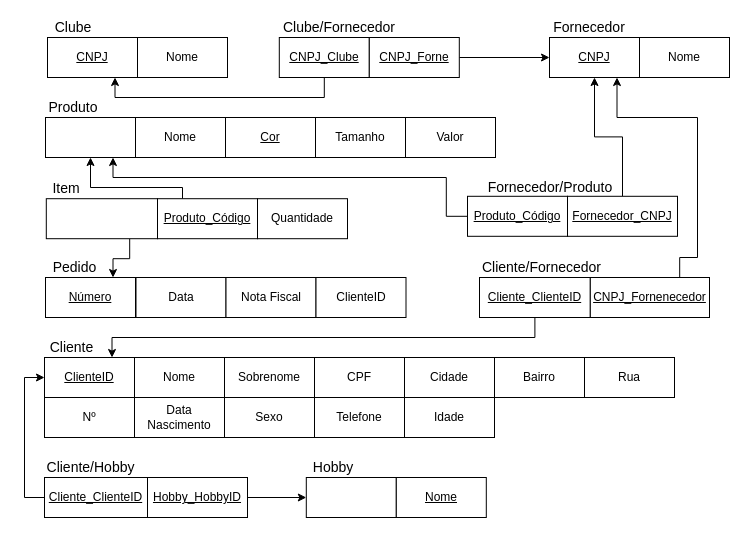
The diagram is 747 pixels wide and 535 high, and some of its shapes have lost their labels. The centre of each missing label's shape, as x and y in pixels:
"Código" goes at point 90,137.
"HobbyID" goes at point 350,497.
"Pedido_Número" goes at point 101,218.
